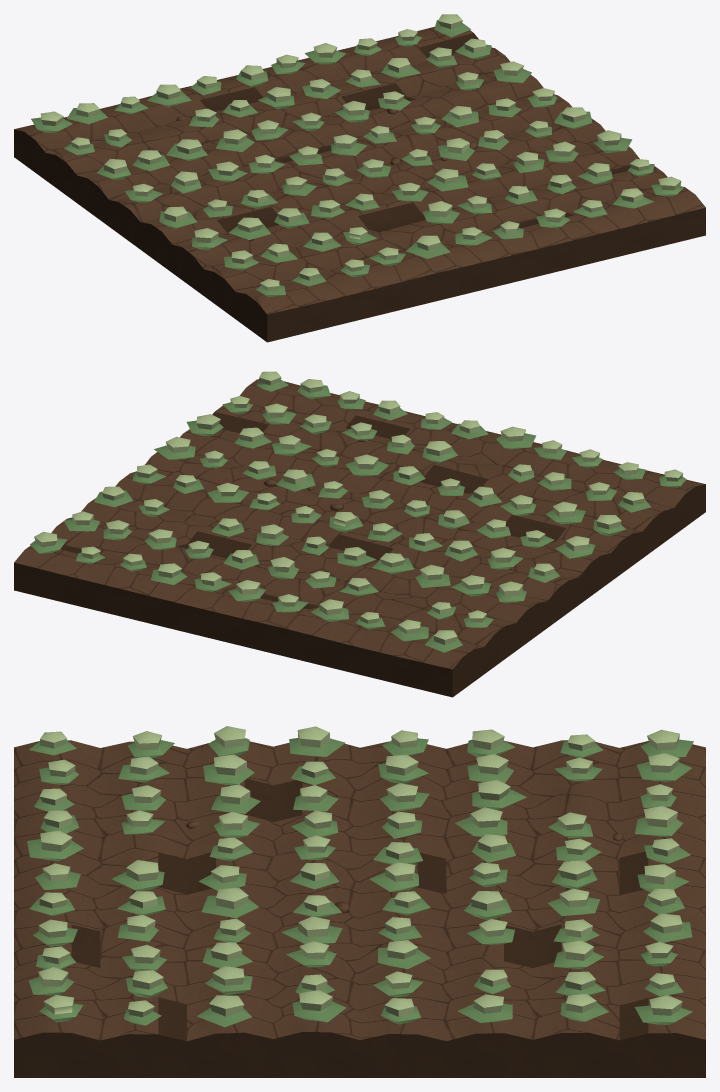
Rendered from field_cabbage.glb.
3 renders of one model, top to bottom at view 1: azimuth 30°, elevation 25°; view 2: azimuth 150°, elevation 25°; view 3: azimuth 270°, elevation 25°, orthographic. The views are drawn at different scales.
Parts seen in each view (by area): view 1: field_cabbage; view 2: field_cabbage; view 3: field_cabbage.
Boxes of the visible parts, bbox=[...] form: field_cabbage: bbox=[14, 14, 705, 342]; field_cabbage: bbox=[14, 371, 705, 697]; field_cabbage: bbox=[14, 726, 705, 1077].
Bounding box in the file's own units: 8.07 × 0.9208 × 8.
5 materials, 5 textured.
